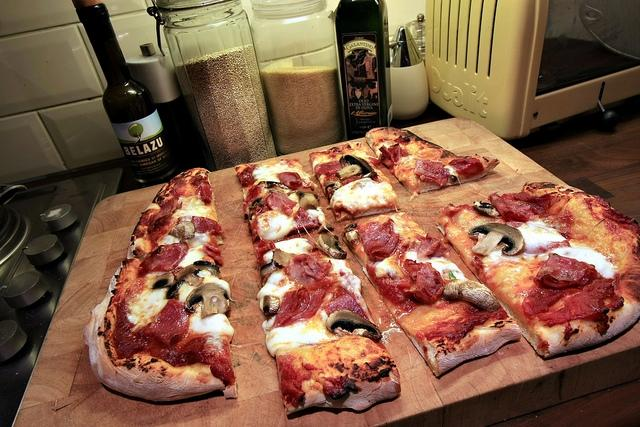mushroom: (326, 309, 382, 344), (468, 222, 524, 256), (442, 280, 500, 312), (184, 282, 231, 320), (166, 269, 201, 300), (335, 154, 372, 182), (314, 233, 348, 260), (173, 264, 205, 287), (170, 220, 196, 241), (272, 248, 296, 270), (296, 190, 320, 210), (341, 222, 360, 247), (263, 296, 280, 322), (473, 200, 500, 216), (150, 273, 174, 289), (325, 180, 342, 200), (258, 181, 291, 190), (250, 195, 264, 209)
